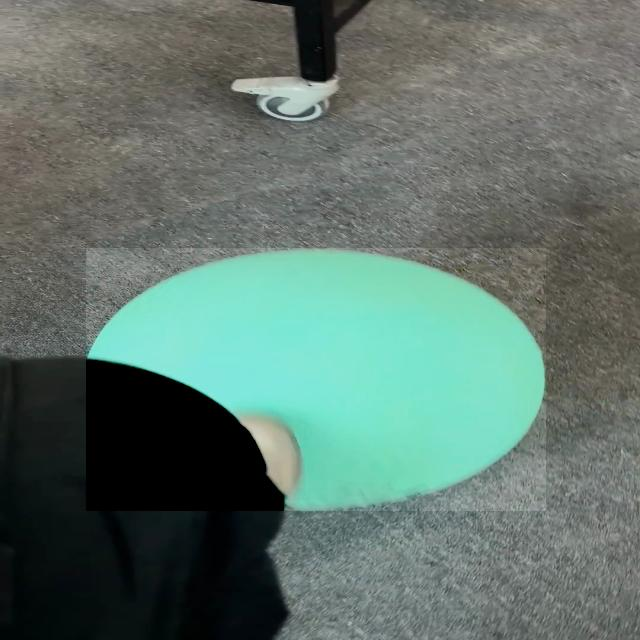Algae: (86, 248, 546, 511)
